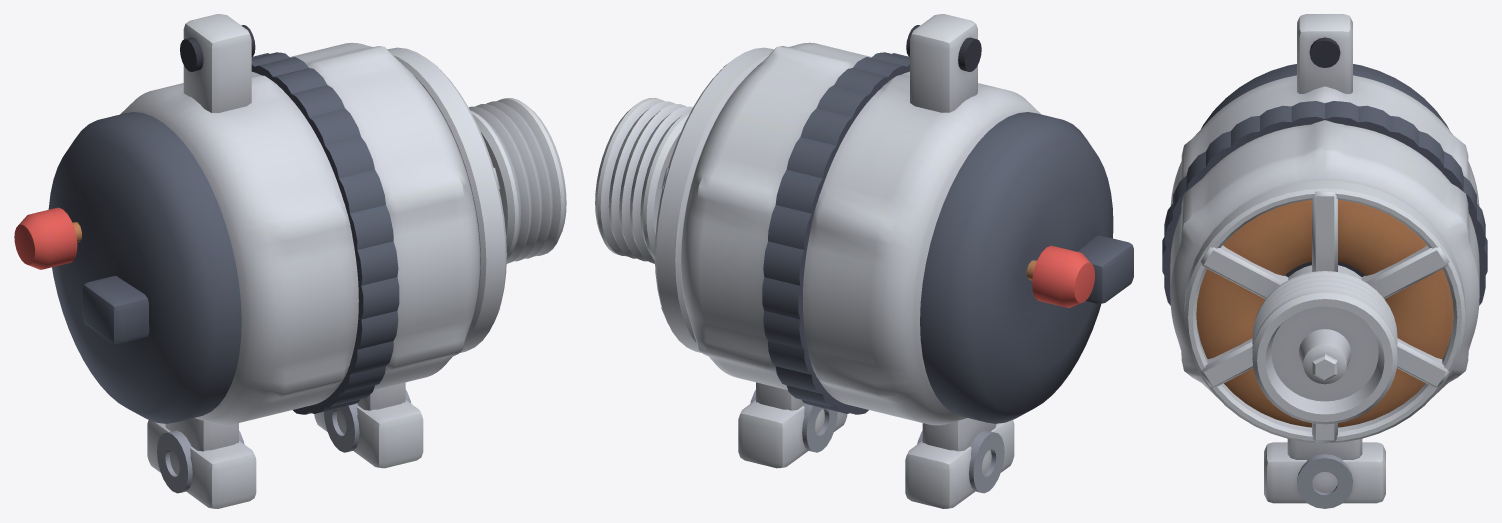
Rendered from alternator.glb.
3 renders of one model, left to right at view 1: azimuth 30°, elevation 25°; view 2: azimuth 150°, elevation 25°; view 3: azimuth 270°, elevation 25°, orthographic. The views are drawn at different scales.
Visible parts, largest first — view 1: alternator_body; view 2: alternator_body; view 3: alternator_body.
Part boxes in pixels (bbox=[...]): alternator_body: bbox=[14, 14, 566, 508]; alternator_body: bbox=[595, 14, 1133, 508]; alternator_body: bbox=[1162, 14, 1487, 508].
Size of the model in its own units: 0.222 by 0.193 by 0.139.
Materials: 1 (1 with a texture image).
